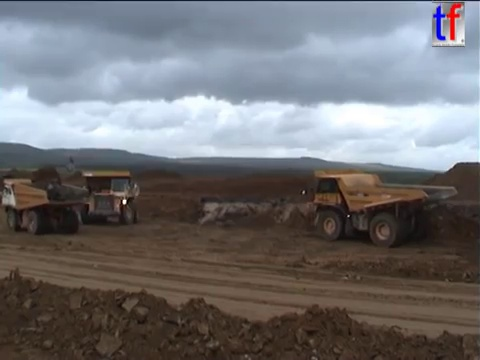truck: (298, 167, 459, 248), (1, 174, 90, 235), (78, 168, 140, 227)
